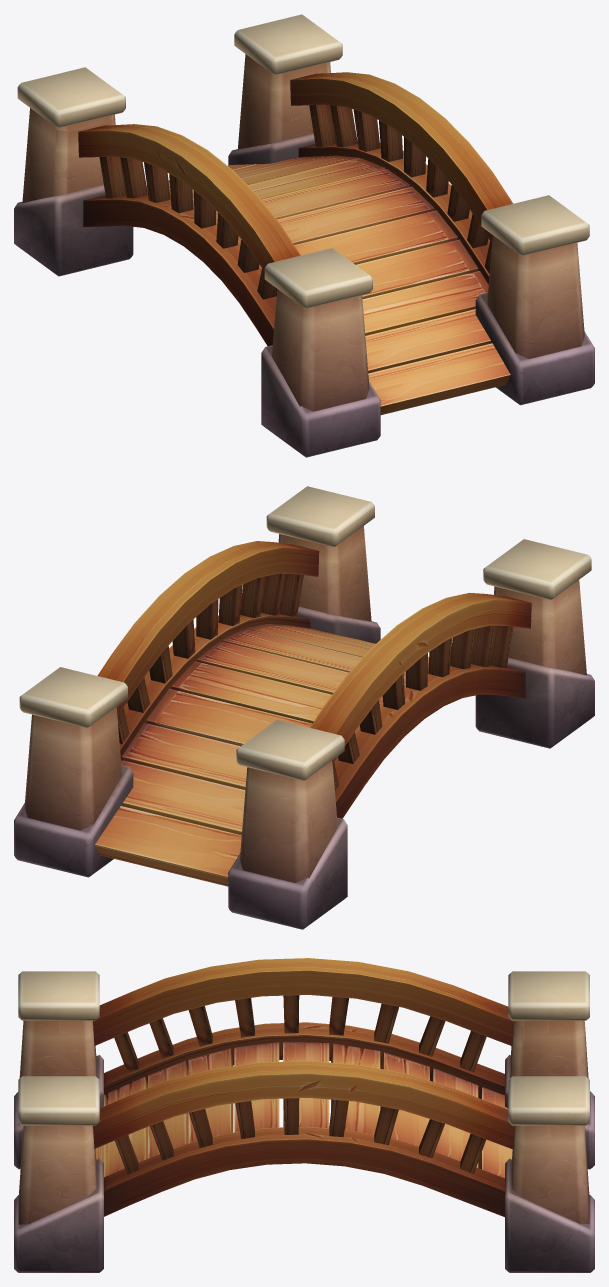
Rendered from SE_Bridge_02.fbx.
3 views of the same model, one above another, from view 1: azimuth 30°, elevation 25°; view 2: azimuth 150°, elevation 25°; view 3: azimuth 270°, elevation 25° (orthographic).
Visible parts, largest first — view 1: SE_Bridge_02; view 2: SE_Bridge_02; view 3: SE_Bridge_02.
Part boxes in pixels (x1,y1,x2,y2): SE_Bridge_02: (14,14,594,457); SE_Bridge_02: (14,486,594,929); SE_Bridge_02: (14,958,594,1272).
Bounding box in the file's own units: 6.69 × 4.13 × 11.59.
